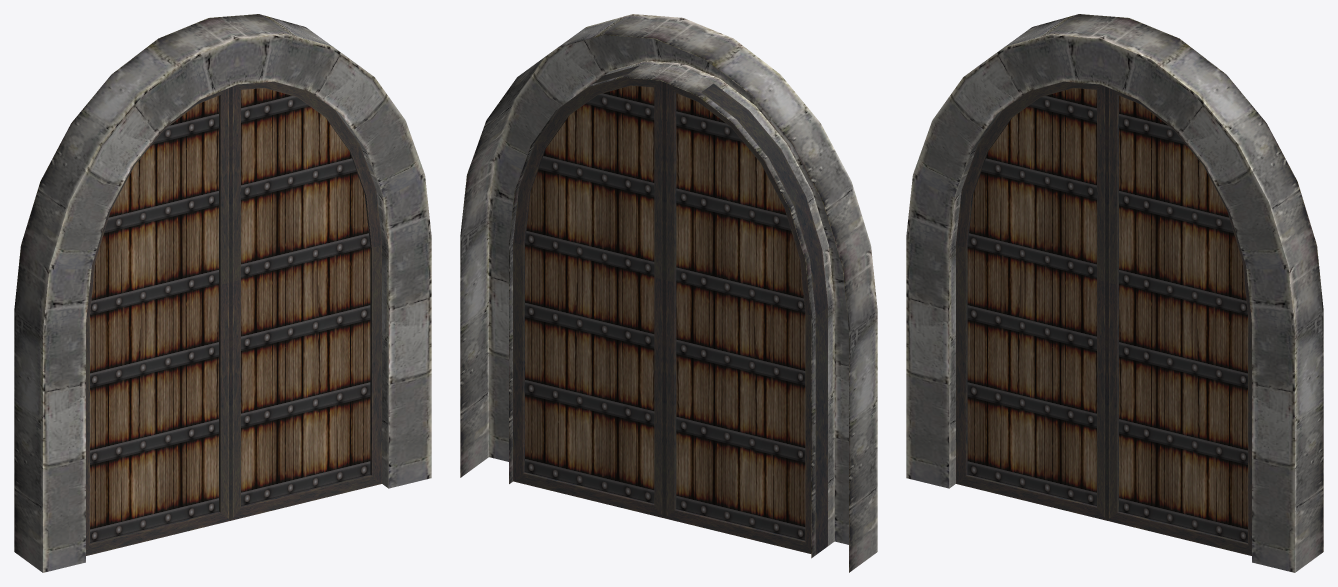
Rendered from CastleBuildingDoor.FBX.
3 renders of one model, left to right at view 1: azimuth 30°, elevation 25°; view 2: azimuth 150°, elevation 25°; view 3: azimuth 330°, elevation 25°, orthographic.
Parts seen in each view (by area): view 1: Door (×2), DoorFrame; view 2: Door (×2), DoorFrame; view 3: Door (×2), DoorFrame.
Boxes of the visible parts, x1,y1,x2,y2 form: Door (×2): [86, 81, 381, 555]; DoorFrame: [14, 14, 431, 572]; Door (×2): [513, 65, 827, 554]; DoorFrame: [460, 14, 877, 572]; Door (×2): [956, 81, 1251, 555]; DoorFrame: [906, 14, 1323, 572].
Bounding box in the file's own units: 619 × 740 × 79.11.
